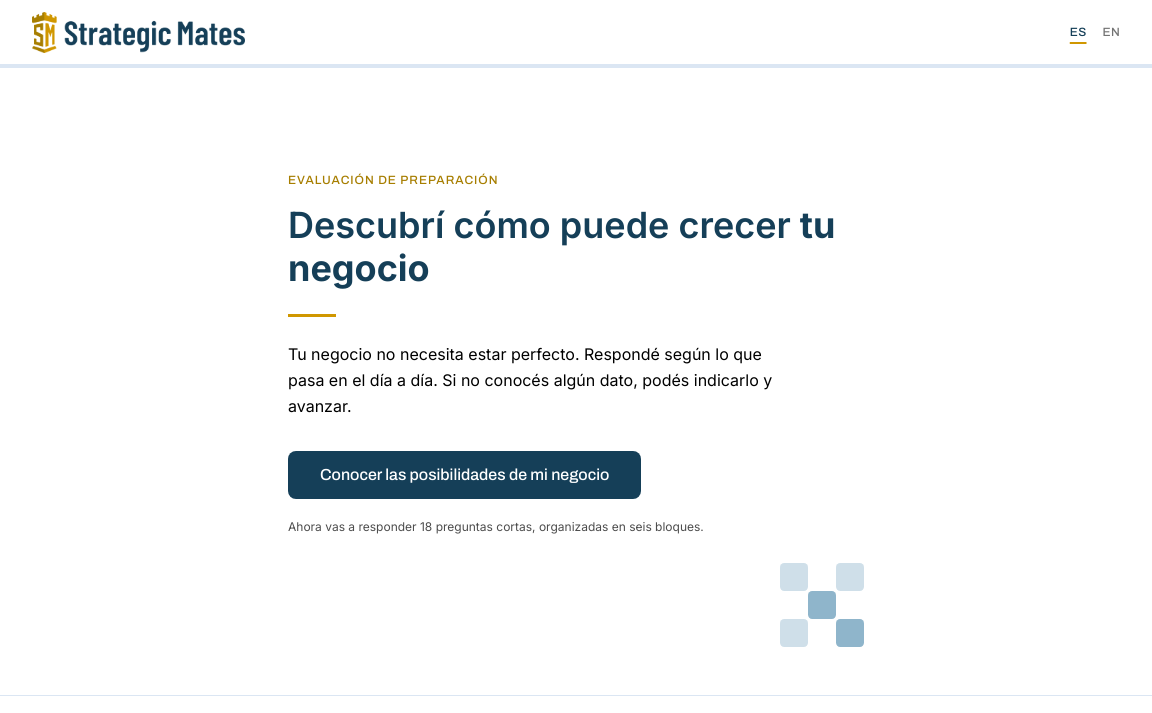
Test: ReadinessPage intro and profile › offers yes, no and "prefer to talk" for the Hispanic owner question
Click the button "Conocer las posibilidades de mi negocio": (465, 475) [288, 451, 641, 499]
(page scrolled)
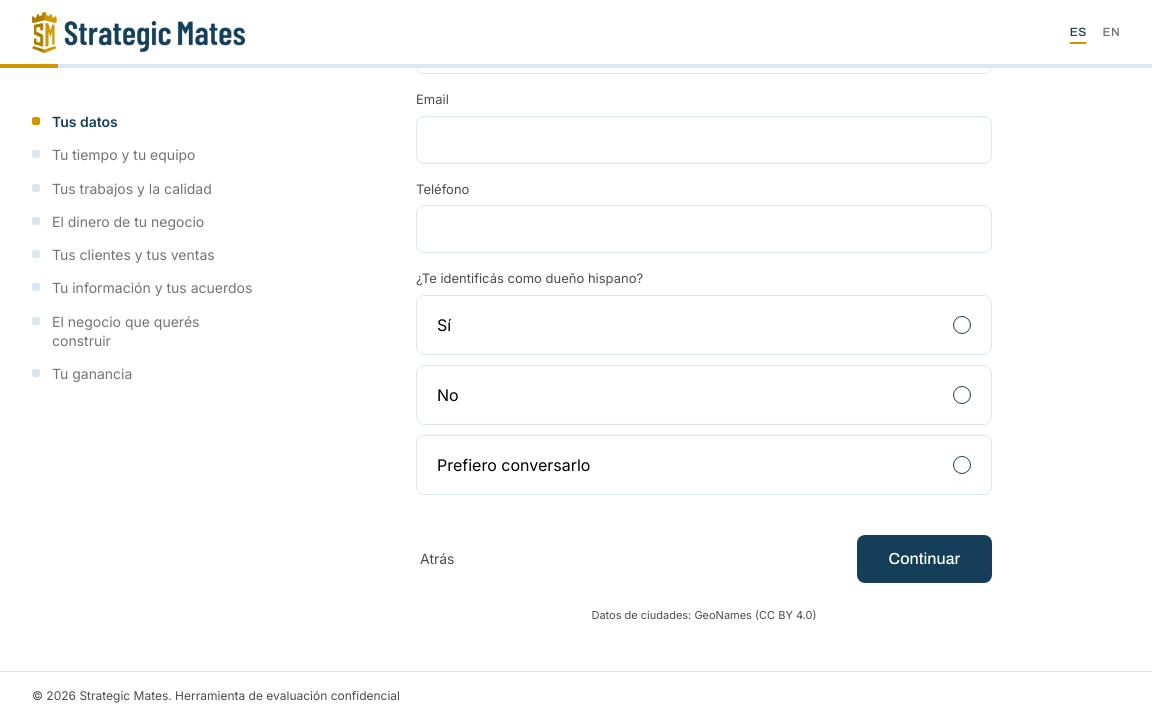
Expected: the radio button labelled "Sí" is shown, [416, 295, 992, 355]
Expected: the radio button labelled "No" is shown, [416, 365, 992, 425]
Expected: the radio button labelled "Prefiero conversarlo" is shown, [416, 435, 992, 495]
